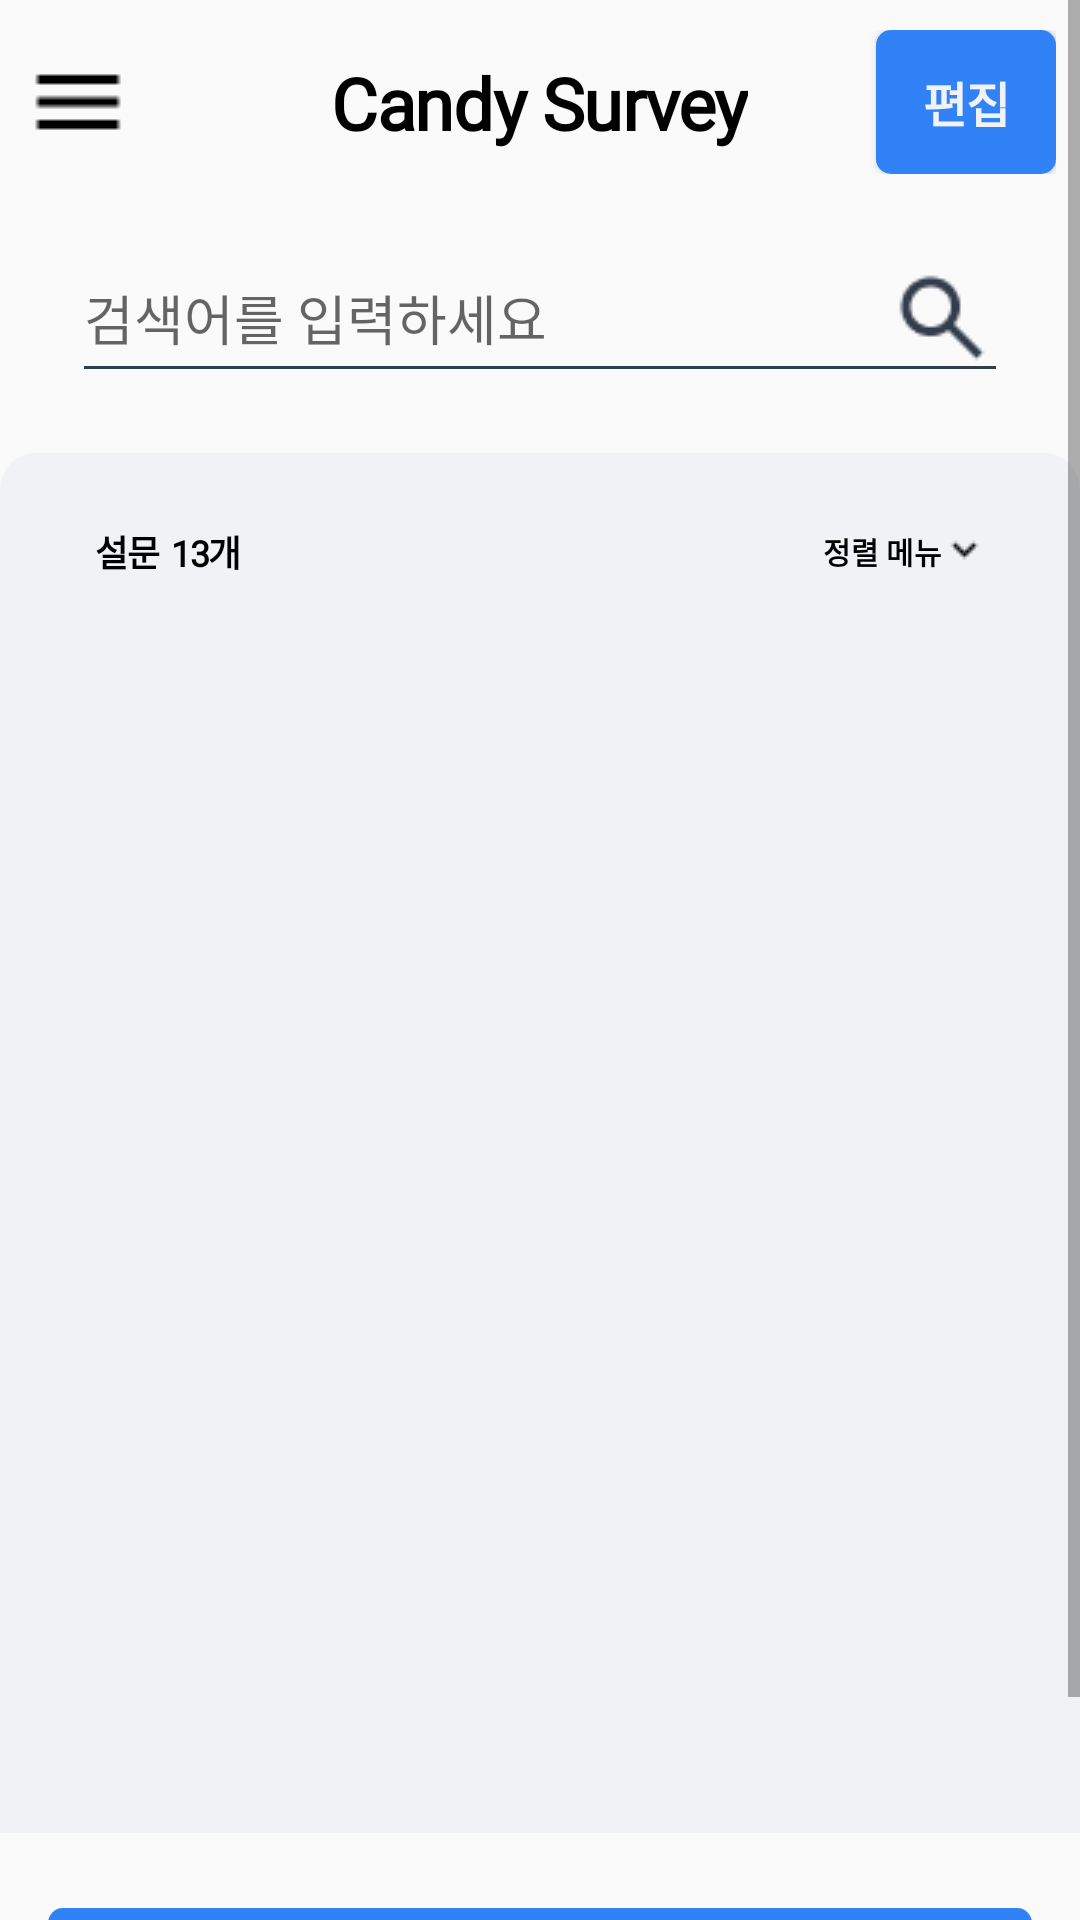

Locate icon controls on the screen. Image size 1080x1920, boxes as (x1, y1, x2, y2).
expand: (951, 541, 978, 559)
menu: (35, 74, 121, 130)
